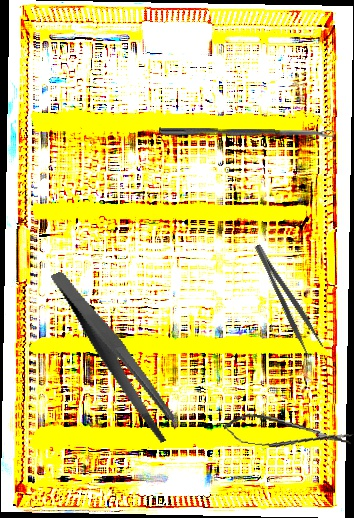Dressing Forceps: (50, 252, 181, 459), (251, 238, 325, 356)
Micro Scissor: (222, 410, 354, 458)
Surgical Spoon: (158, 127, 335, 139)
